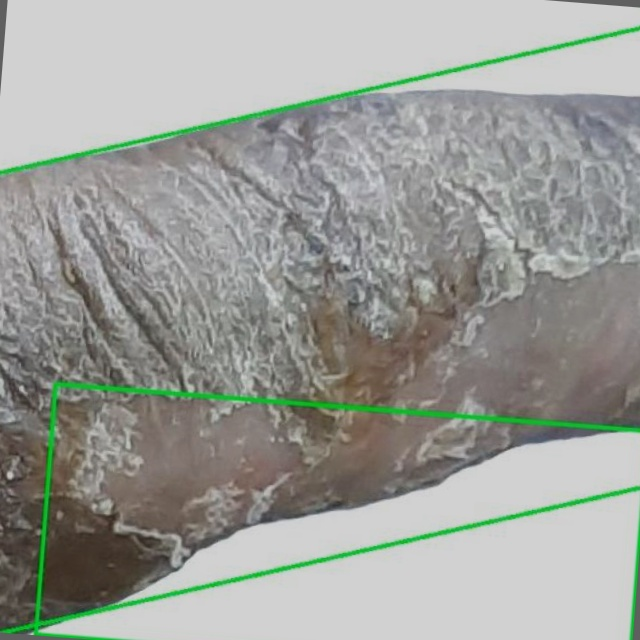Eczema: (0, 29, 639, 620), (36, 384, 639, 639)
